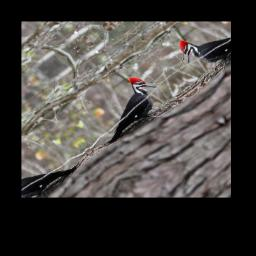Woodpecker: (74, 70, 176, 152)
